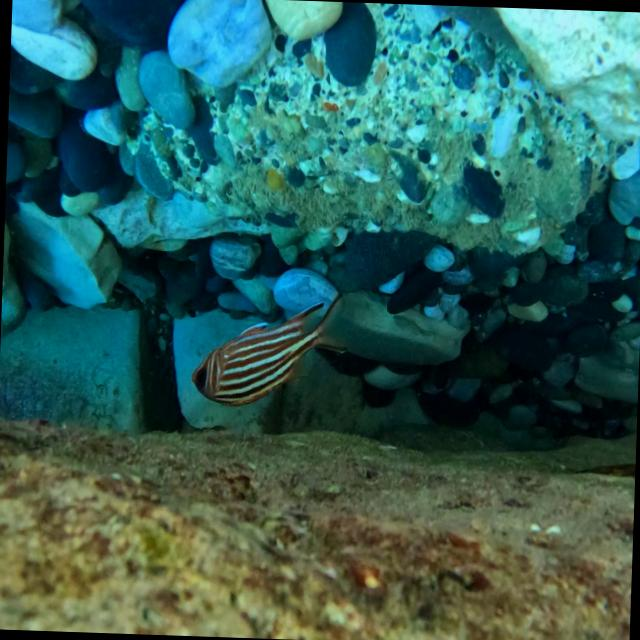Asker Baligi: (184, 258, 361, 424)
